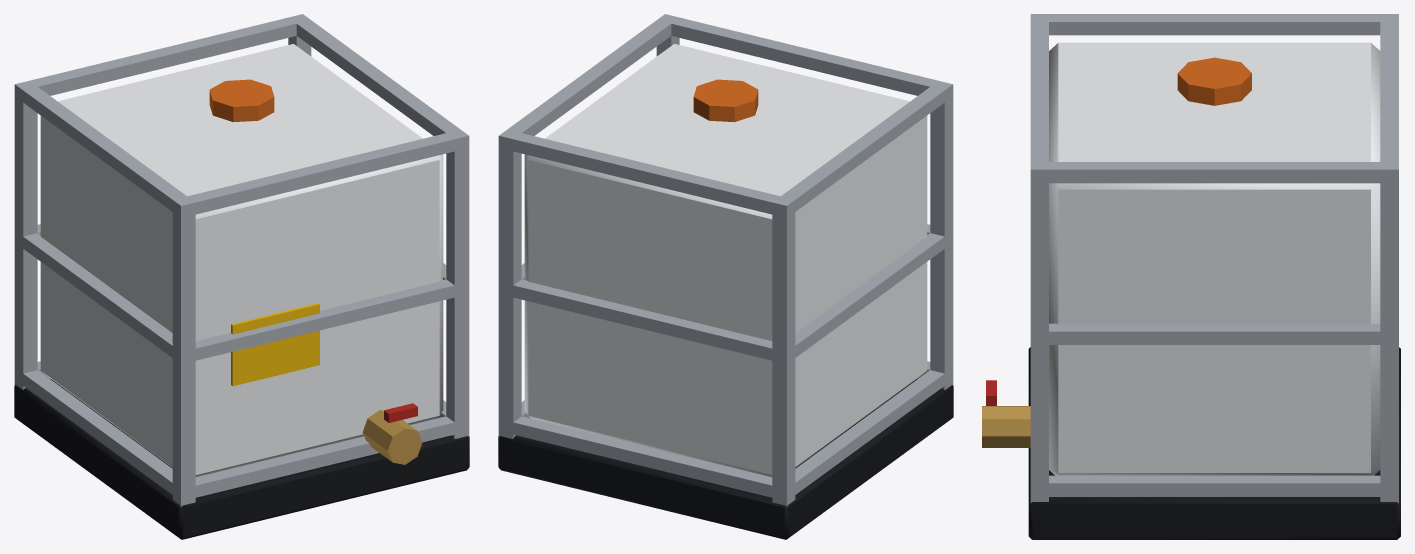
The model's file is tank_tote_tank.glb.
The picture shows the model from 3 angles, left to right: view 1: azimuth 30°, elevation 25°; view 2: azimuth 150°, elevation 25°; view 3: azimuth 270°, elevation 25°; orthographic projection. The views are drawn at different scales.
Visible parts, largest first — view 1: tank_tote_tank; view 2: tank_tote_tank; view 3: tank_tote_tank.
Part boxes in pixels (left/top/right/bottom): tank_tote_tank: left=14, top=14, right=469, bottom=539; tank_tote_tank: left=498, top=14, right=953, bottom=539; tank_tote_tank: left=982, top=14, right=1400, bottom=539.
Size of the model in its own units: 1 by 1.15 by 1.12.
